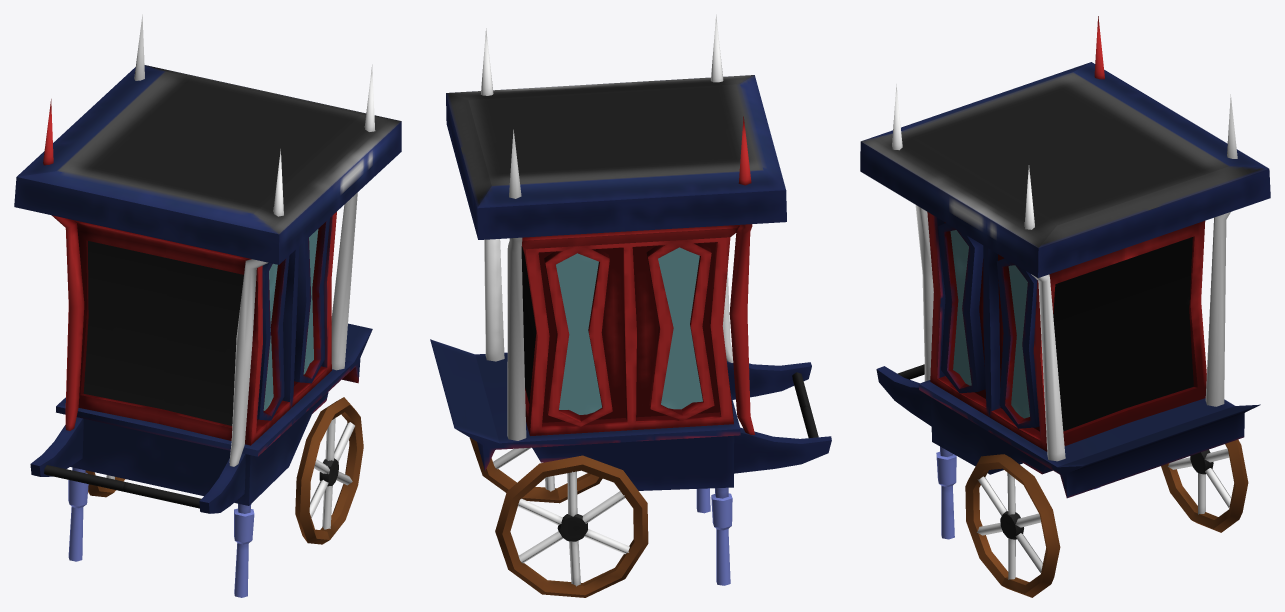
The model's file is modul_funny_3.fbx.
3 renders of one model, left to right at view 1: azimuth 30°, elevation 25°; view 2: azimuth 150°, elevation 25°; view 3: azimuth 270°, elevation 25°, orthographic. The views are drawn at different scales.
Parts seen in each view (by area): view 1: modul_funny_3; view 2: modul_funny_3; view 3: modul_funny_3.
Boxes of the visible parts, x1,y1,x2,y2 form: modul_funny_3: [14, 14, 401, 597]; modul_funny_3: [430, 14, 831, 597]; modul_funny_3: [860, 16, 1270, 597].
Size of the model in its own units: 349 by 419 by 334.
1 material, 1 textured.
